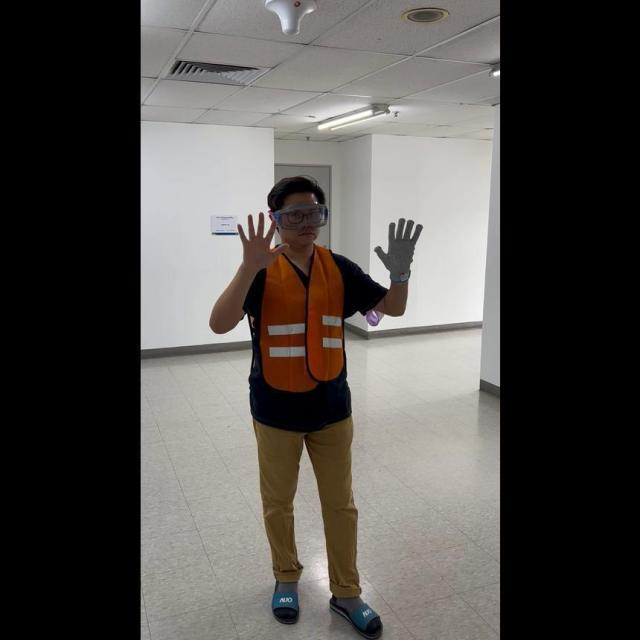bare_hand: (233, 207, 284, 269)
gloved_hand: (373, 214, 421, 281)
